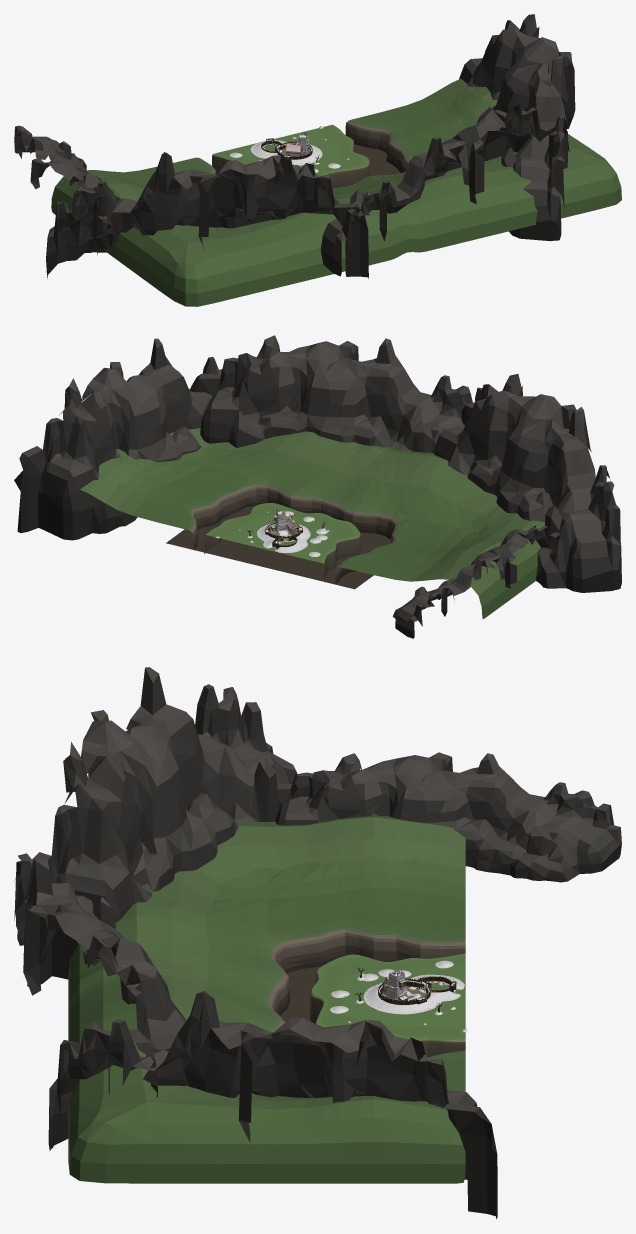
The model's file is narrowFortsAlt.glb.
3 views of the same model, one above another, from view 1: azimuth 30°, elevation 25°; view 2: azimuth 150°, elevation 25°; view 3: azimuth 270°, elevation 25° (orthographic). The views are drawn at different scales.
Visible parts, largest first — view 1: Plane.786, mountains_.007, mountains_.005, mountains_.006, Cylinder.029, mountains_.008, Plane, Plane.176; view 2: Plane.786, mountains_.007, mountains_.006, mountains_.005, Cylinder.029, Plane, mountains_.008, Plane.176; view 3: Plane.786, mountains_.007, mountains_.005, mountains_.008, mountains_.006, Cylinder.029, Plane.176, Plane.
Boxes of the visible parts, left/top/right/bottom form: Plane.786: left=51, top=79, right=621, bottom=306; mountains_.007: left=46, top=152, right=368, bottom=279; mountains_.005: left=459, top=14, right=575, bottom=241; mountains_.006: left=321, top=104, right=561, bottom=276; Cylinder.029: left=212, top=124, right=369, bottom=188; mountains_.008: left=14, top=125, right=119, bottom=252; Plane: left=354, top=144, right=399, bottom=176; Plane.176: left=250, top=140, right=322, bottom=165; Plane.786: left=80, top=428, right=544, bottom=618; mountains_.007: left=434, top=374, right=621, bottom=592; mountains_.006: left=190, top=335, right=472, bottom=453; mountains_.005: left=14, top=338, right=222, bottom=540; Cylinder.029: left=204, top=503, right=360, bottom=582; Plane: left=166, top=506, right=390, bottom=589; mountains_.008: left=392, top=525, right=560, bottom=638; Plane.176: left=257, top=523, right=310, bottom=552; Plane.786: left=68, top=815, right=465, bottom=1183; mountains_.007: left=25, top=667, right=297, bottom=986; mountains_.005: left=48, top=991, right=497, bottom=1219; mountains_.008: left=275, top=752, right=621, bottom=882; mountains_.006: left=14, top=853, right=187, bottom=1097; Cylinder.029: left=310, top=953, right=465, bottom=1057; Plane.176: left=363, top=974, right=464, bottom=1014; Plane: left=280, top=966, right=321, bottom=1022.
Size of what is drawn, in the model's own units: 551 by 148 by 363.
